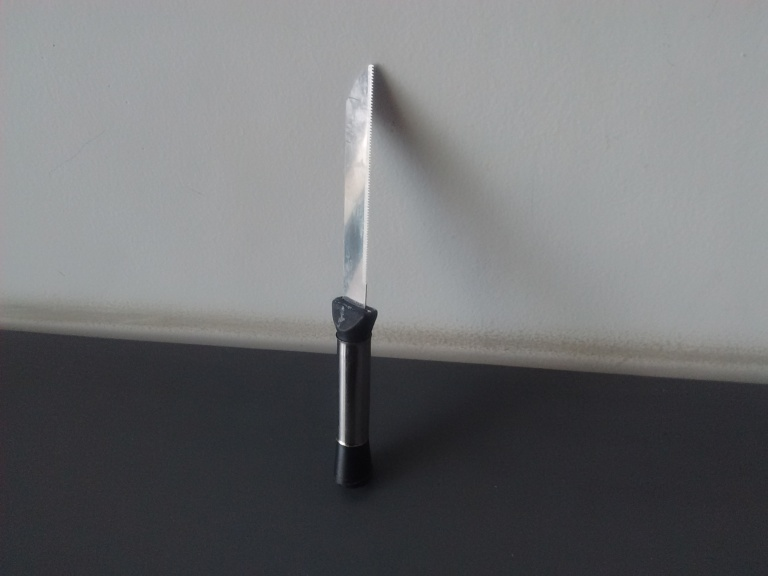knife: (327, 58, 379, 490)
